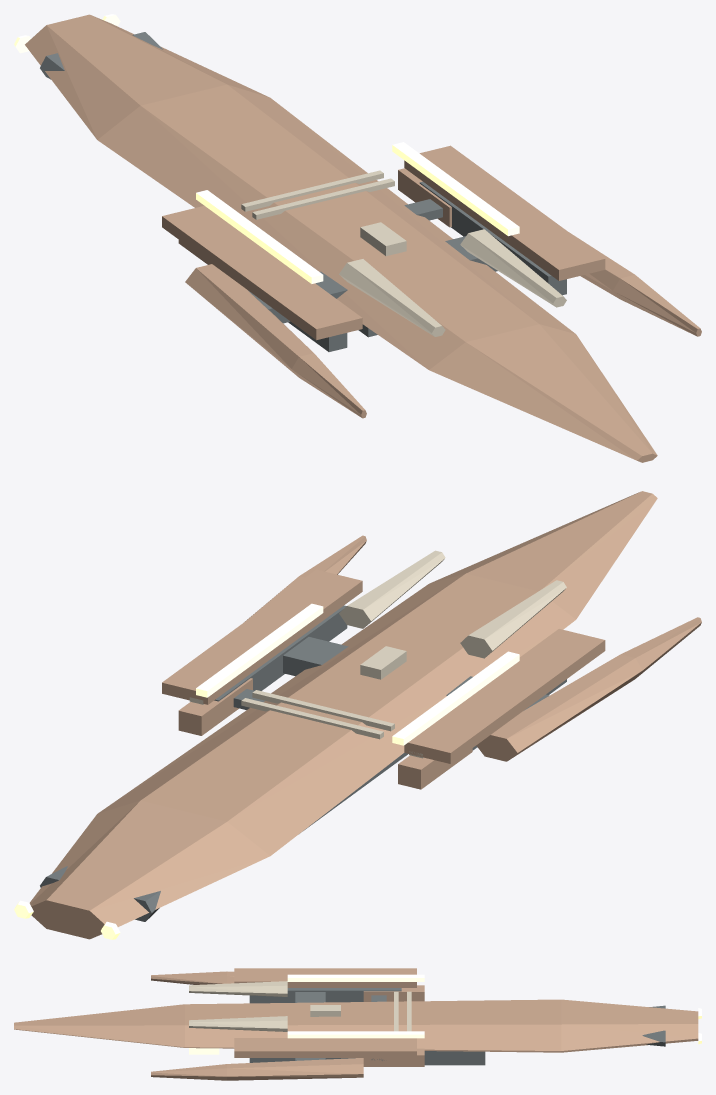
3 renders of one model, top to bottom at view 1: azimuth 30°, elevation 25°; view 2: azimuth 150°, elevation 25°; view 3: azimuth 270°, elevation 25°, orthographic. The views are drawn at different scales.
Bounding box in the file's own units: 6.99 × 1.76 × 20.09.
